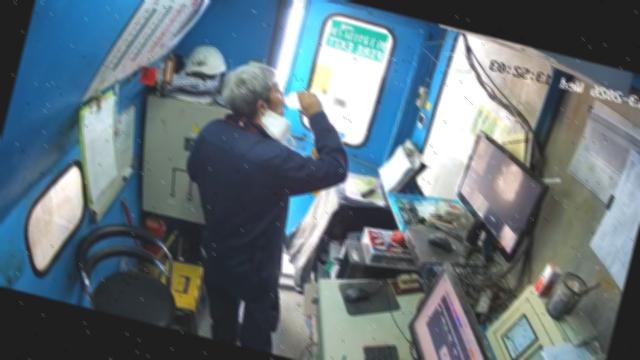Head: (220, 63, 285, 122)
People: (185, 63, 348, 354)
